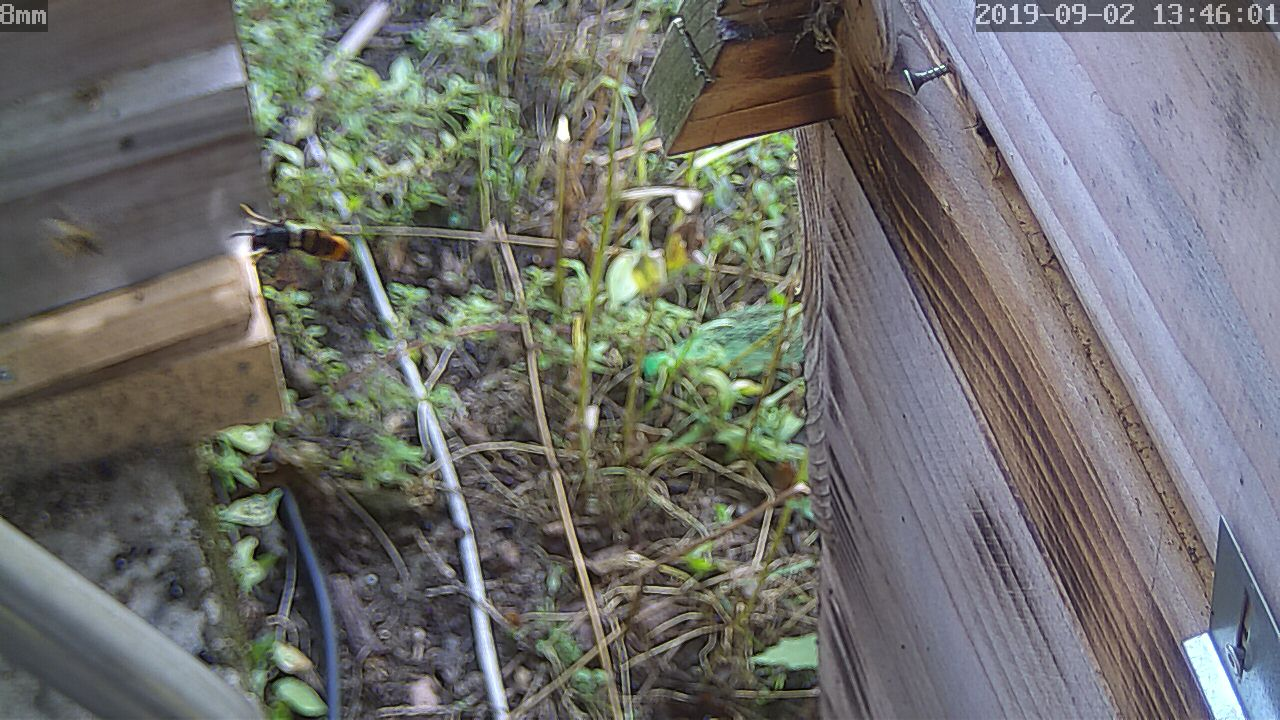hornet: (90, 0, 1175, 316)
